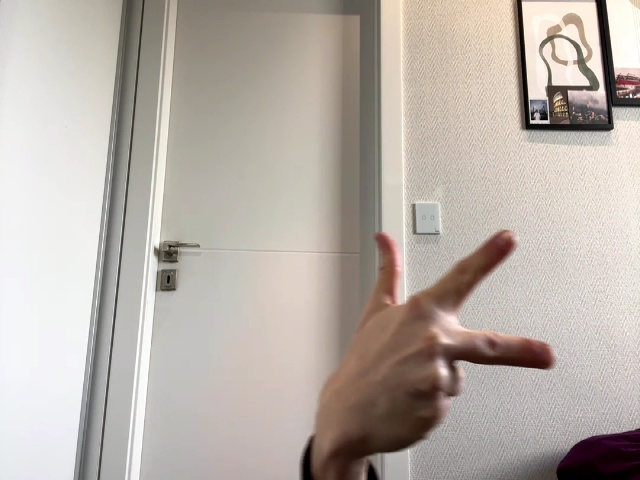K: (334, 232, 556, 432)
